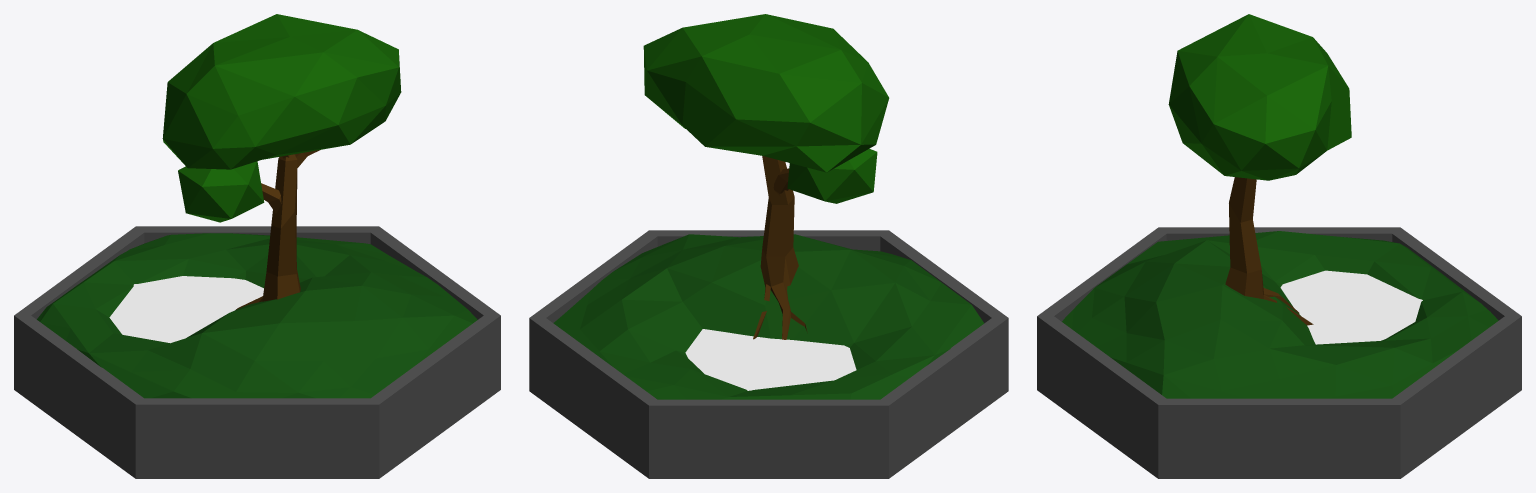
Rendered from tree.glb.
3 views of the same model, side by side, from view 1: azimuth 30°, elevation 25°; view 2: azimuth 150°, elevation 25°; view 3: azimuth 270°, elevation 25° (orthographic).
Visible parts, largest first — view 1: Cylinder, Icosphere, Icosphere.002, Plane, Icosphere.001, Cylinder.001; view 2: Cylinder, Icosphere, Icosphere.002, Plane, Cylinder.001, Icosphere.001; view 3: Cylinder, Icosphere, Icosphere.002, Plane, Cylinder.001.
Part boxes in pixels (<box>): Cylinder: <box>14,226,500,478</box>; Icosphere: <box>37,233,477,398</box>; Icosphere.002: <box>162,14,401,169</box>; Plane: <box>109,276,263,343</box>; Icosphere.001: <box>178,161,264,222</box>; Cylinder.001: <box>236,154,300,309</box>; Cylinder: <box>529,230,1008,478</box>; Icosphere: <box>553,234,984,399</box>; Icosphere.002: <box>643,14,889,172</box>; Plane: <box>685,329,856,390</box>; Cylinder.001: <box>753,156,807,339</box>; Icosphere.001: <box>787,148,877,203</box>; Cylinder: <box>1037,227,1521,478</box>; Icosphere: <box>1062,231,1498,398</box>; Icosphere.002: <box>1168,14,1351,180</box>; Plane: <box>1280,270,1422,344</box>; Cylinder.001: <box>1225,177,1313,325</box>.
Bounding box in the file's own units: 1.73 × 1.76 × 2.
